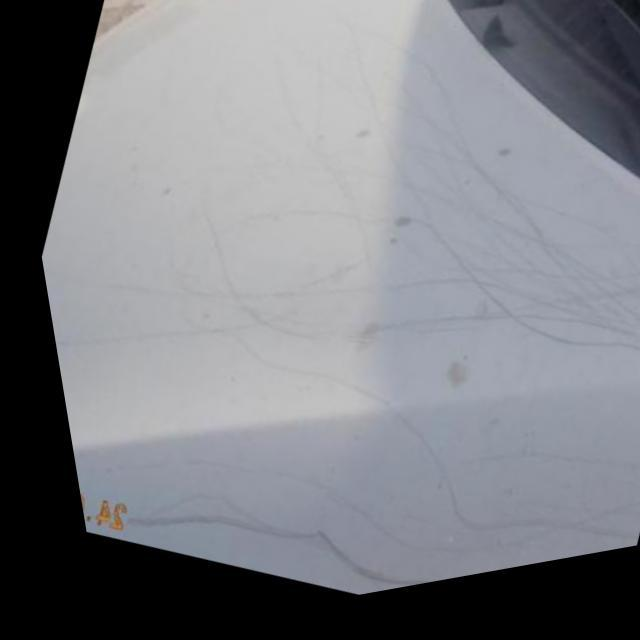scratch: (168, 21, 640, 404), (112, 351, 640, 602)
